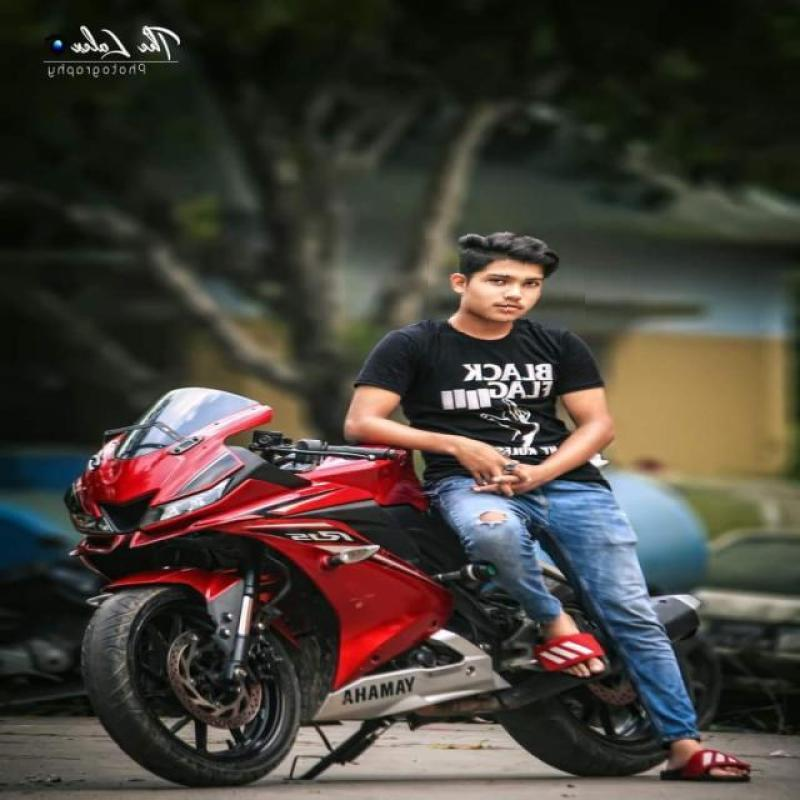nohelmet: (426, 218, 585, 331)
